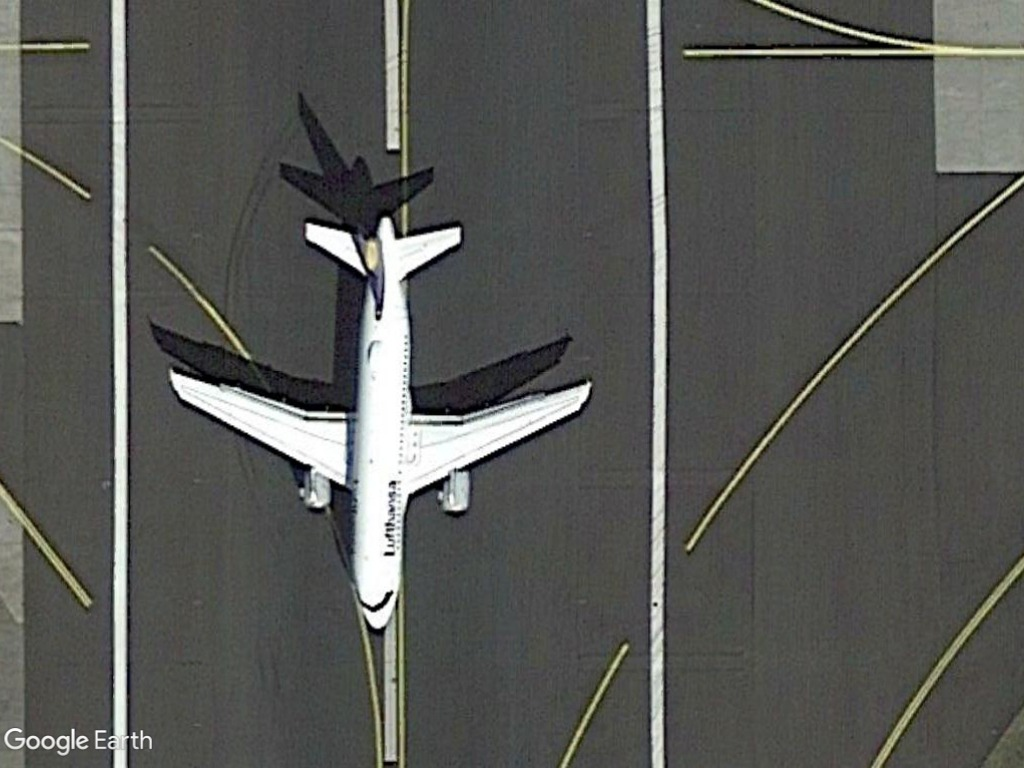airliner: (157, 190, 603, 653)
